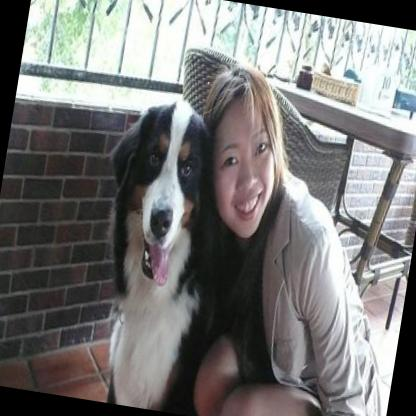Bernese_mountain_dog: (73, 89, 248, 413)
